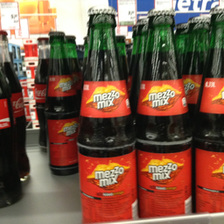soda: (77, 5, 138, 224), (137, 7, 193, 217), (194, 7, 224, 211), (45, 31, 78, 172)
